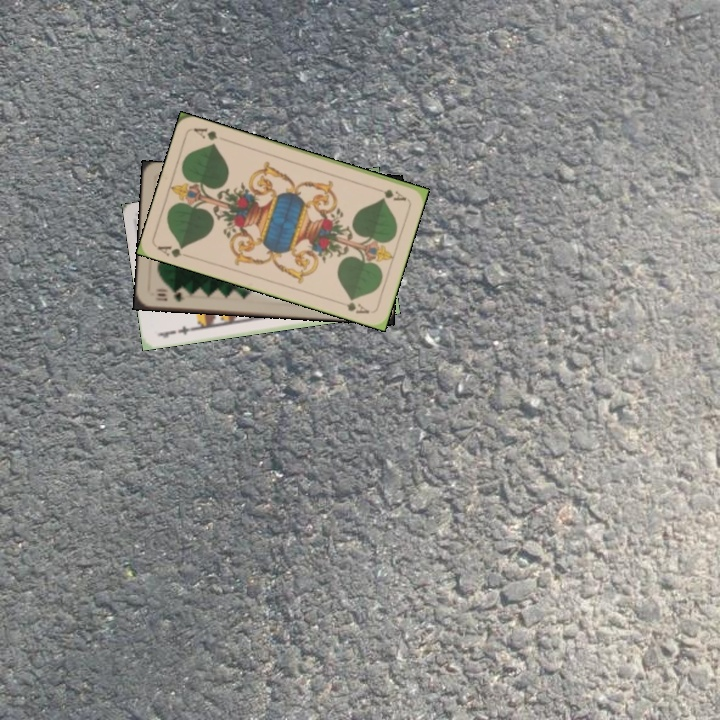E7: (155, 322, 196, 340)
G10: (151, 287, 187, 304)
GA: (153, 241, 193, 261), (369, 183, 409, 203)
